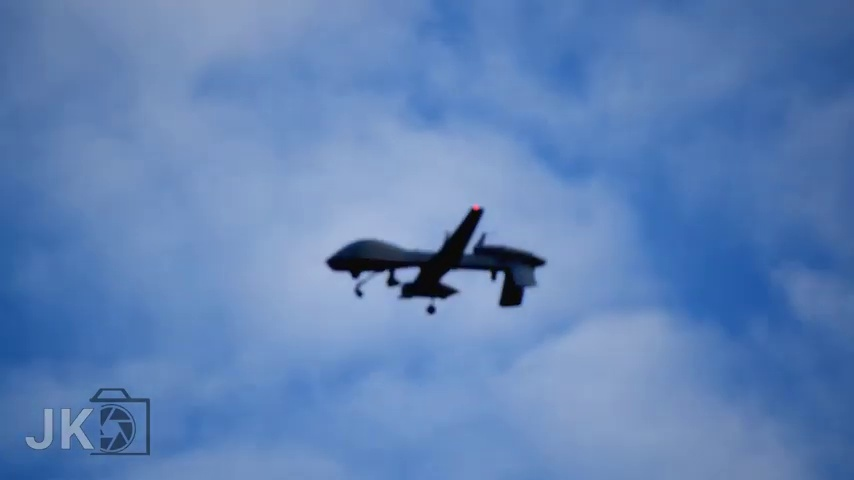military drone: (325, 205, 546, 315)
